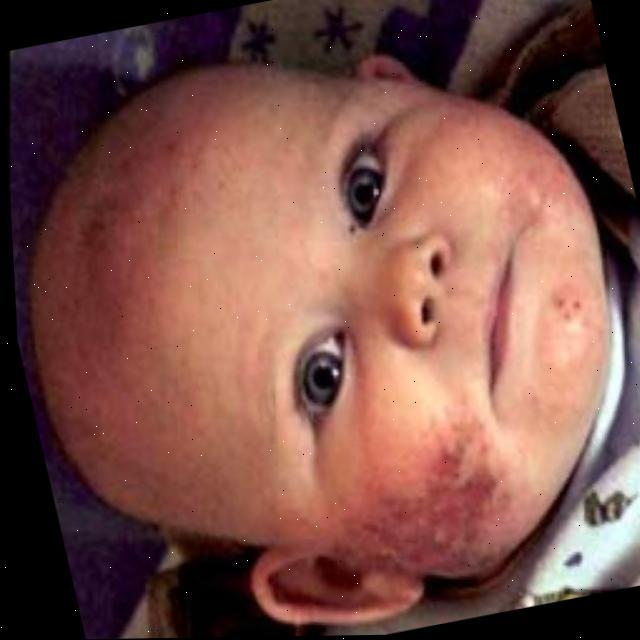Eczema: (17, 126, 252, 395), (499, 126, 624, 360), (362, 452, 542, 571)
